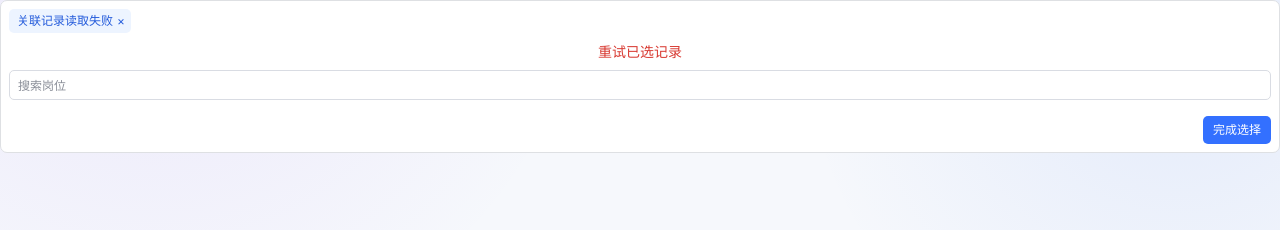
Test: RelationPicker › retries an exact selected-record request and disables explicit completion when disabled
The width and height of the screenshot is (1280, 230).
Expected: the text "关联记录读取失败" is shown, [17, 13, 113, 28]
Expected: the button "完成选择" is disabled, [1203, 116, 1271, 144]
Click the button "重试已选记录" at (640,52), box [9, 41, 1271, 62]
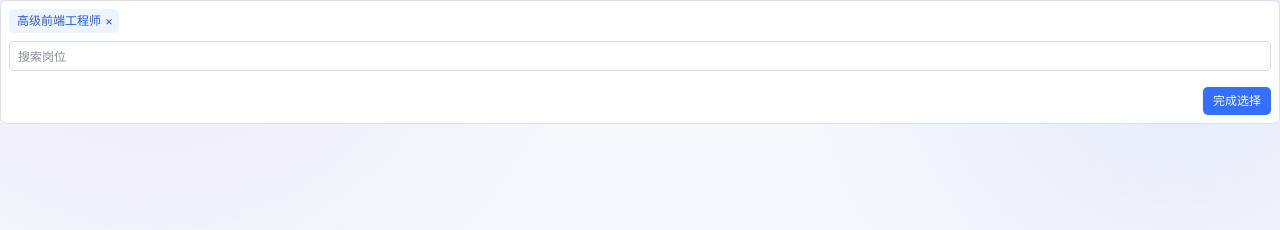
Expected: the text "高级前端工程师" is shown, [17, 13, 101, 28]
